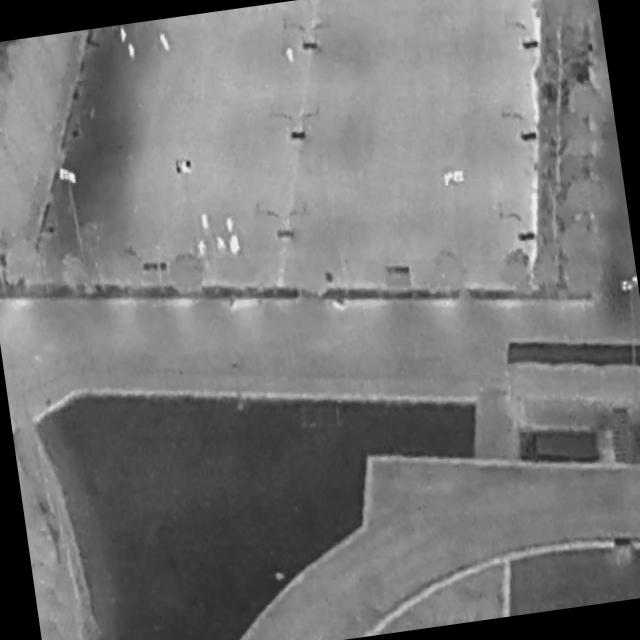person: (228, 234, 242, 256), (158, 32, 172, 53), (216, 236, 229, 256), (198, 240, 210, 260), (202, 215, 211, 232), (227, 217, 236, 234), (287, 46, 296, 63), (121, 28, 130, 44), (129, 44, 137, 60)
